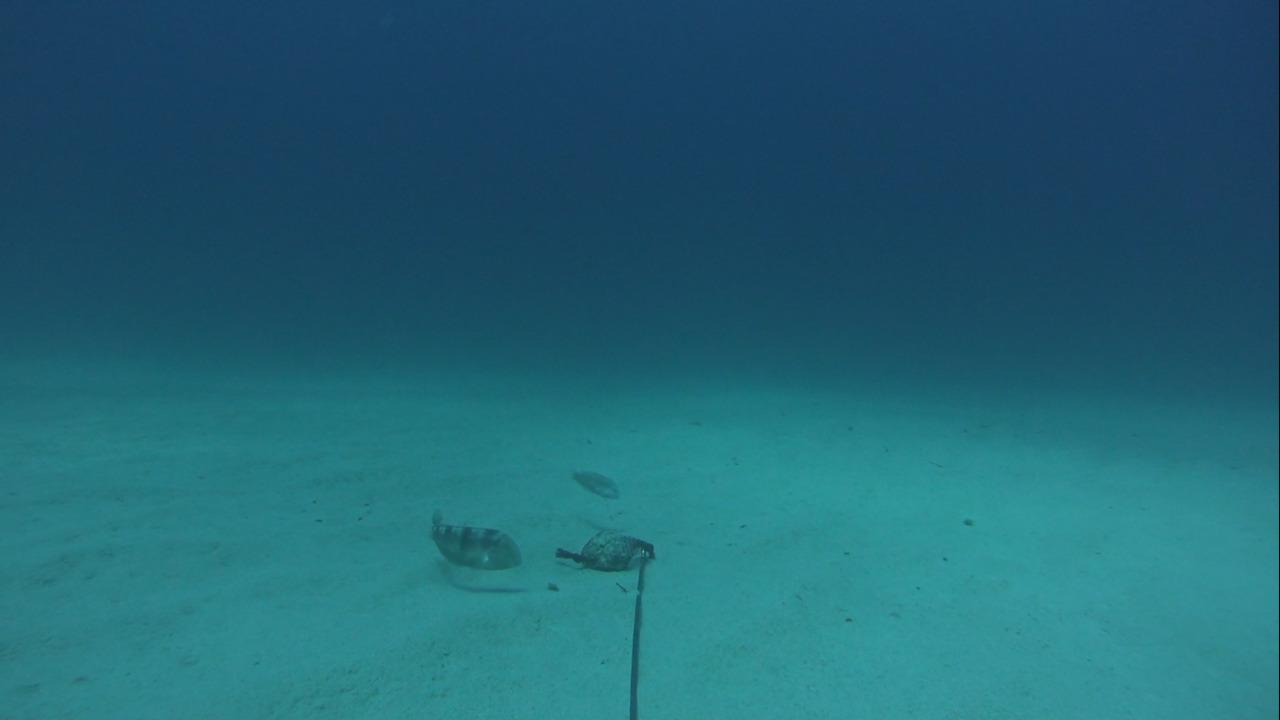raor: (423, 505, 524, 569), (568, 463, 629, 501)
